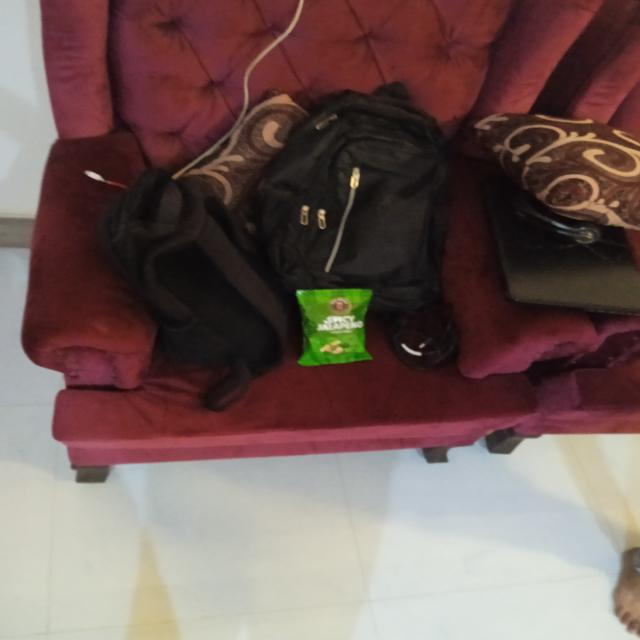Plastic: (302, 288, 374, 362)
